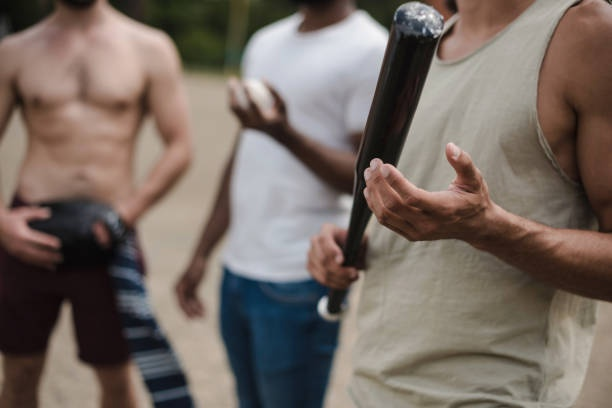bita: (317, 9, 452, 321)
